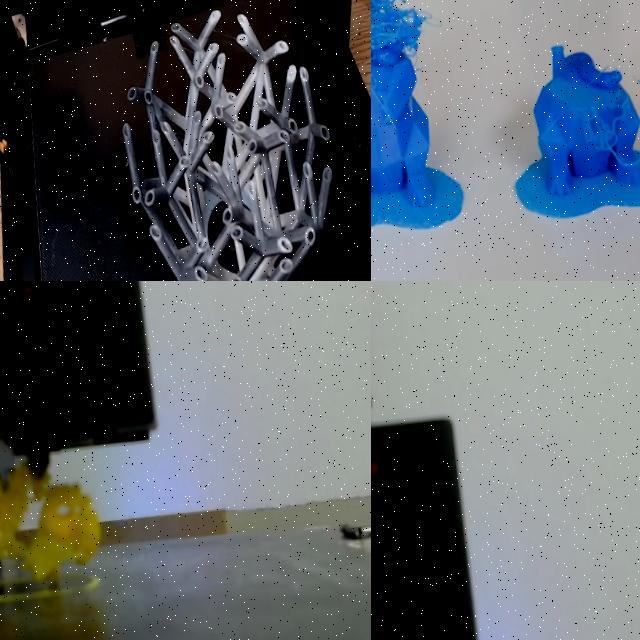spaghetti: (0, 463, 99, 579), (371, 0, 428, 128), (576, 100, 640, 166)
